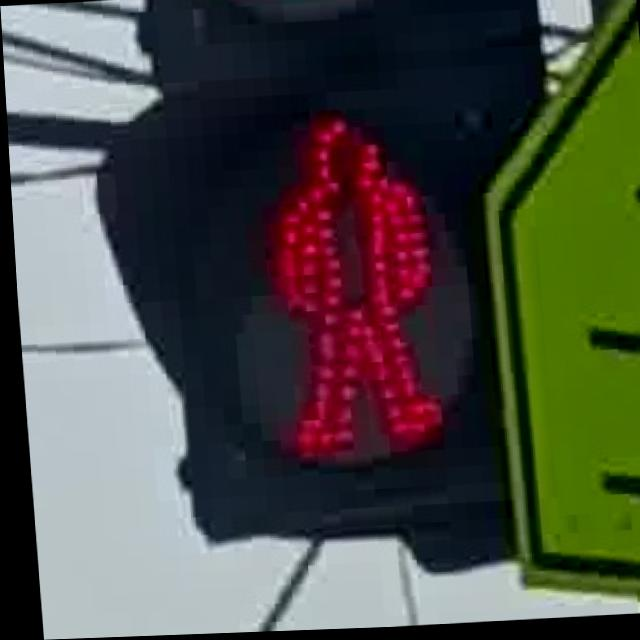red_light: (227, 85, 466, 475)
